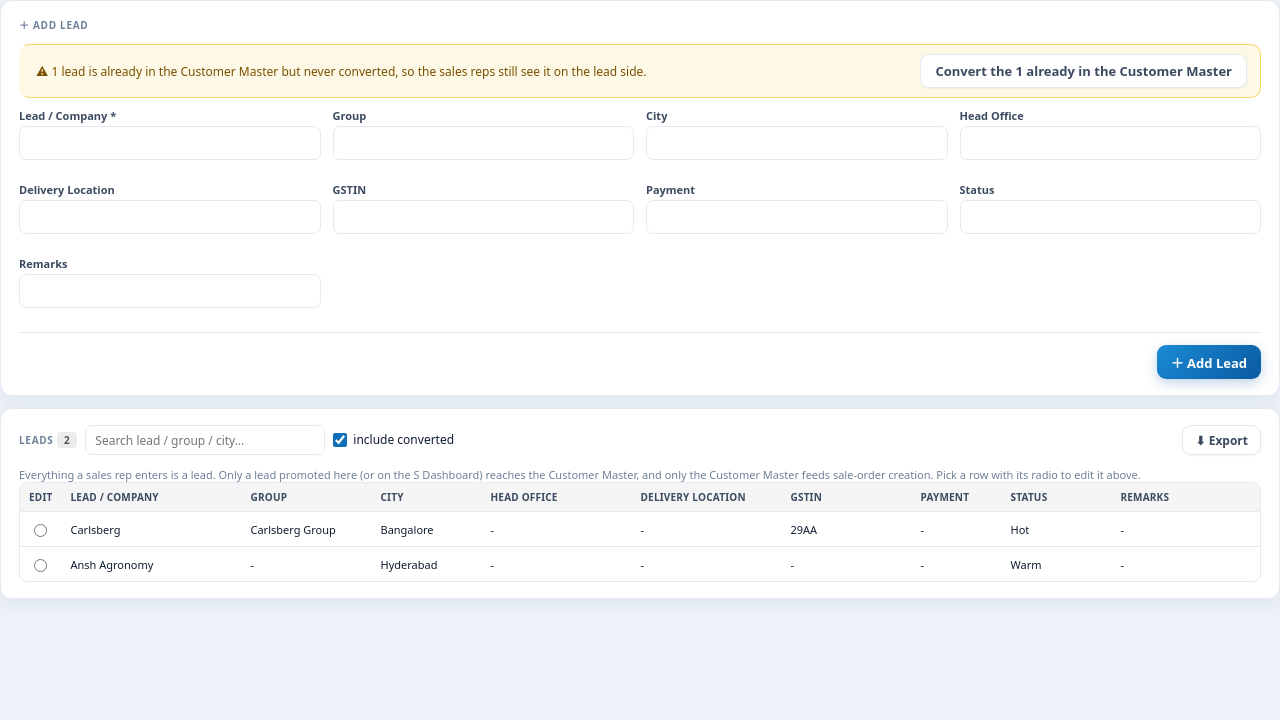
it: Issues 2.3 §6 — the Super Admin can see and edit leads › a search narrows the list
This screenshot has width=1280, height=720.
Expected: the text "Carlsberg" is shown, 62,512 -> 242,546
Type "ansh" into the field named "Search leads".
click(205, 440); type("ansh")  # box 85,425 -> 325,455
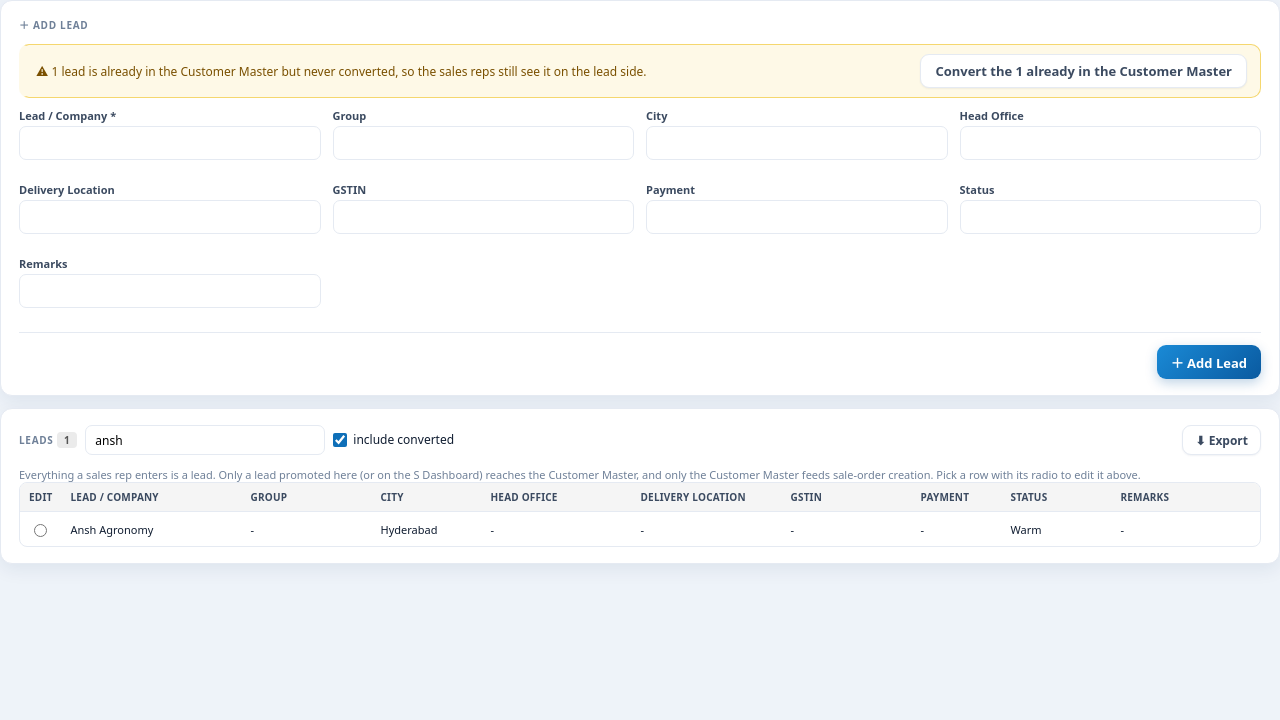
Expected: the text "Ansh Agronomy" is shown, 62,512 -> 242,546
Expected: the text "Carlsberg" is gone
